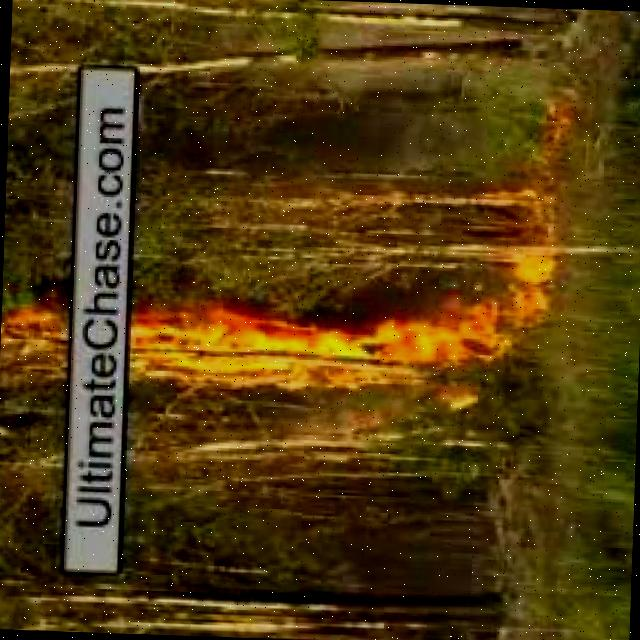fire: (132, 305, 456, 395), (462, 227, 566, 373), (0, 313, 68, 374)
